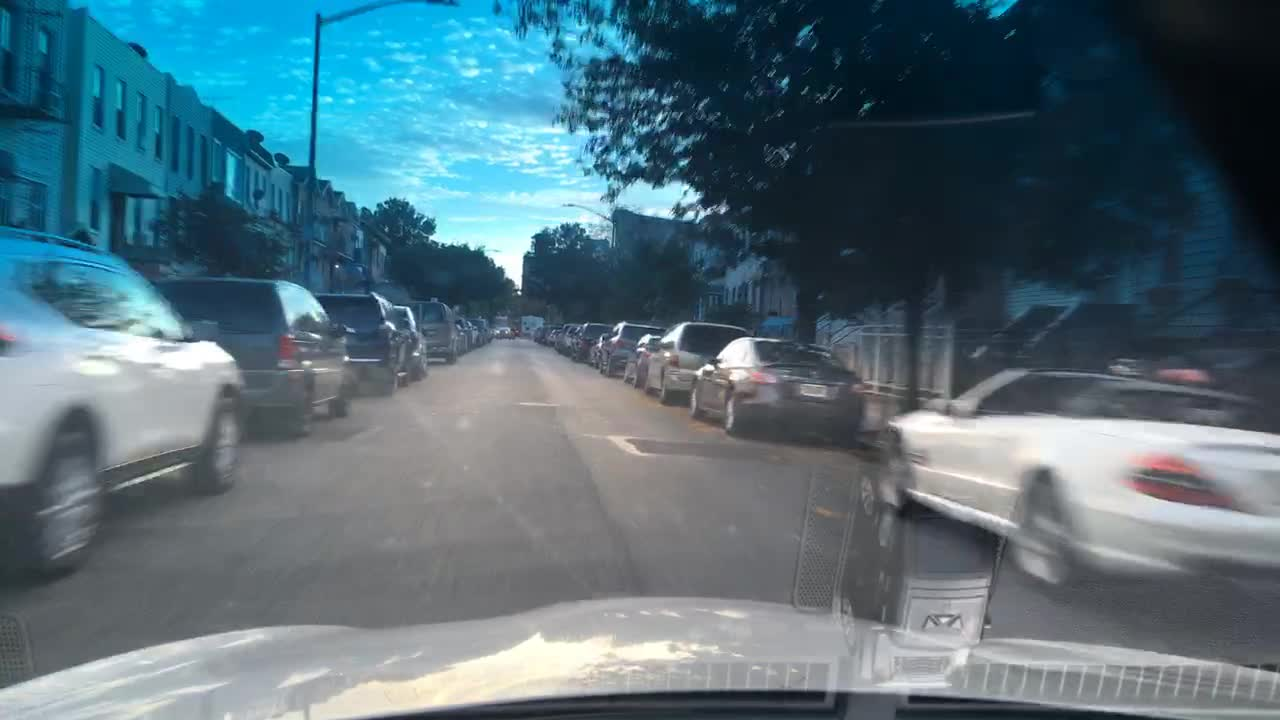car: (855, 350, 1277, 596), (0, 222, 250, 575), (147, 272, 359, 437), (686, 334, 867, 440), (312, 289, 411, 394), (640, 319, 750, 406), (585, 322, 667, 376), (398, 297, 462, 362), (391, 302, 429, 380), (619, 332, 662, 388), (567, 321, 614, 363), (587, 331, 614, 368), (553, 321, 576, 353), (468, 316, 493, 343), (453, 315, 470, 354), (538, 320, 564, 345), (462, 318, 478, 347), (545, 328, 560, 346), (497, 324, 513, 339), (531, 325, 544, 343), (520, 324, 535, 339), (488, 326, 500, 337), (510, 326, 522, 335)
